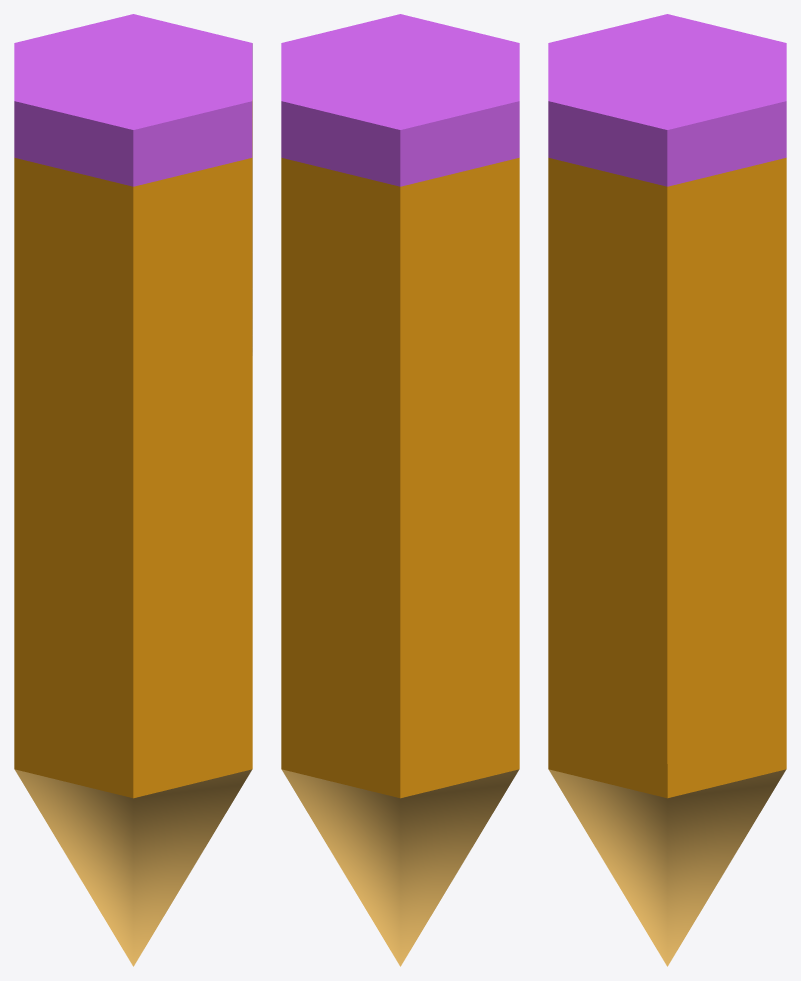
Rendered from Pencil.fbx.
The picture shows the model from 3 angles, left to right: view 1: azimuth 30°, elevation 25°; view 2: azimuth 150°, elevation 25°; view 3: azimuth 270°, elevation 25°; orthographic projection.
Parts seen in each view (by area): view 1: pCylinder1; view 2: pCylinder1; view 3: pCylinder1.
Boxes of the visible parts, x1,y1,x2,y2 form: pCylinder1: (14, 14, 252, 966); pCylinder1: (281, 14, 519, 966); pCylinder1: (548, 14, 786, 966).
Bounding box in the file's own units: 2 × 7.19 × 1.73.
